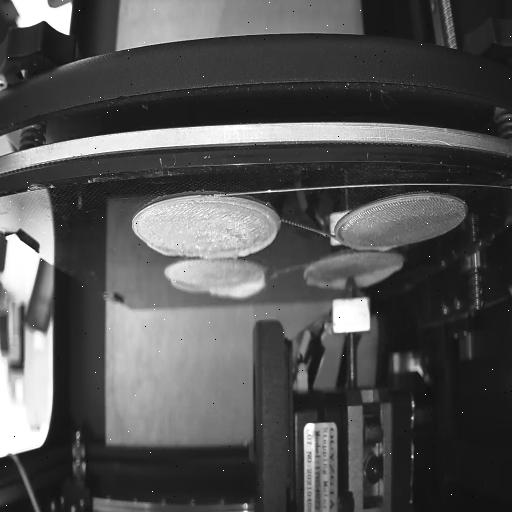over_extrusion: (202, 196, 278, 260), (205, 272, 272, 300), (354, 262, 402, 290), (172, 276, 204, 298), (304, 276, 344, 292), (146, 240, 180, 258), (372, 242, 396, 255)
